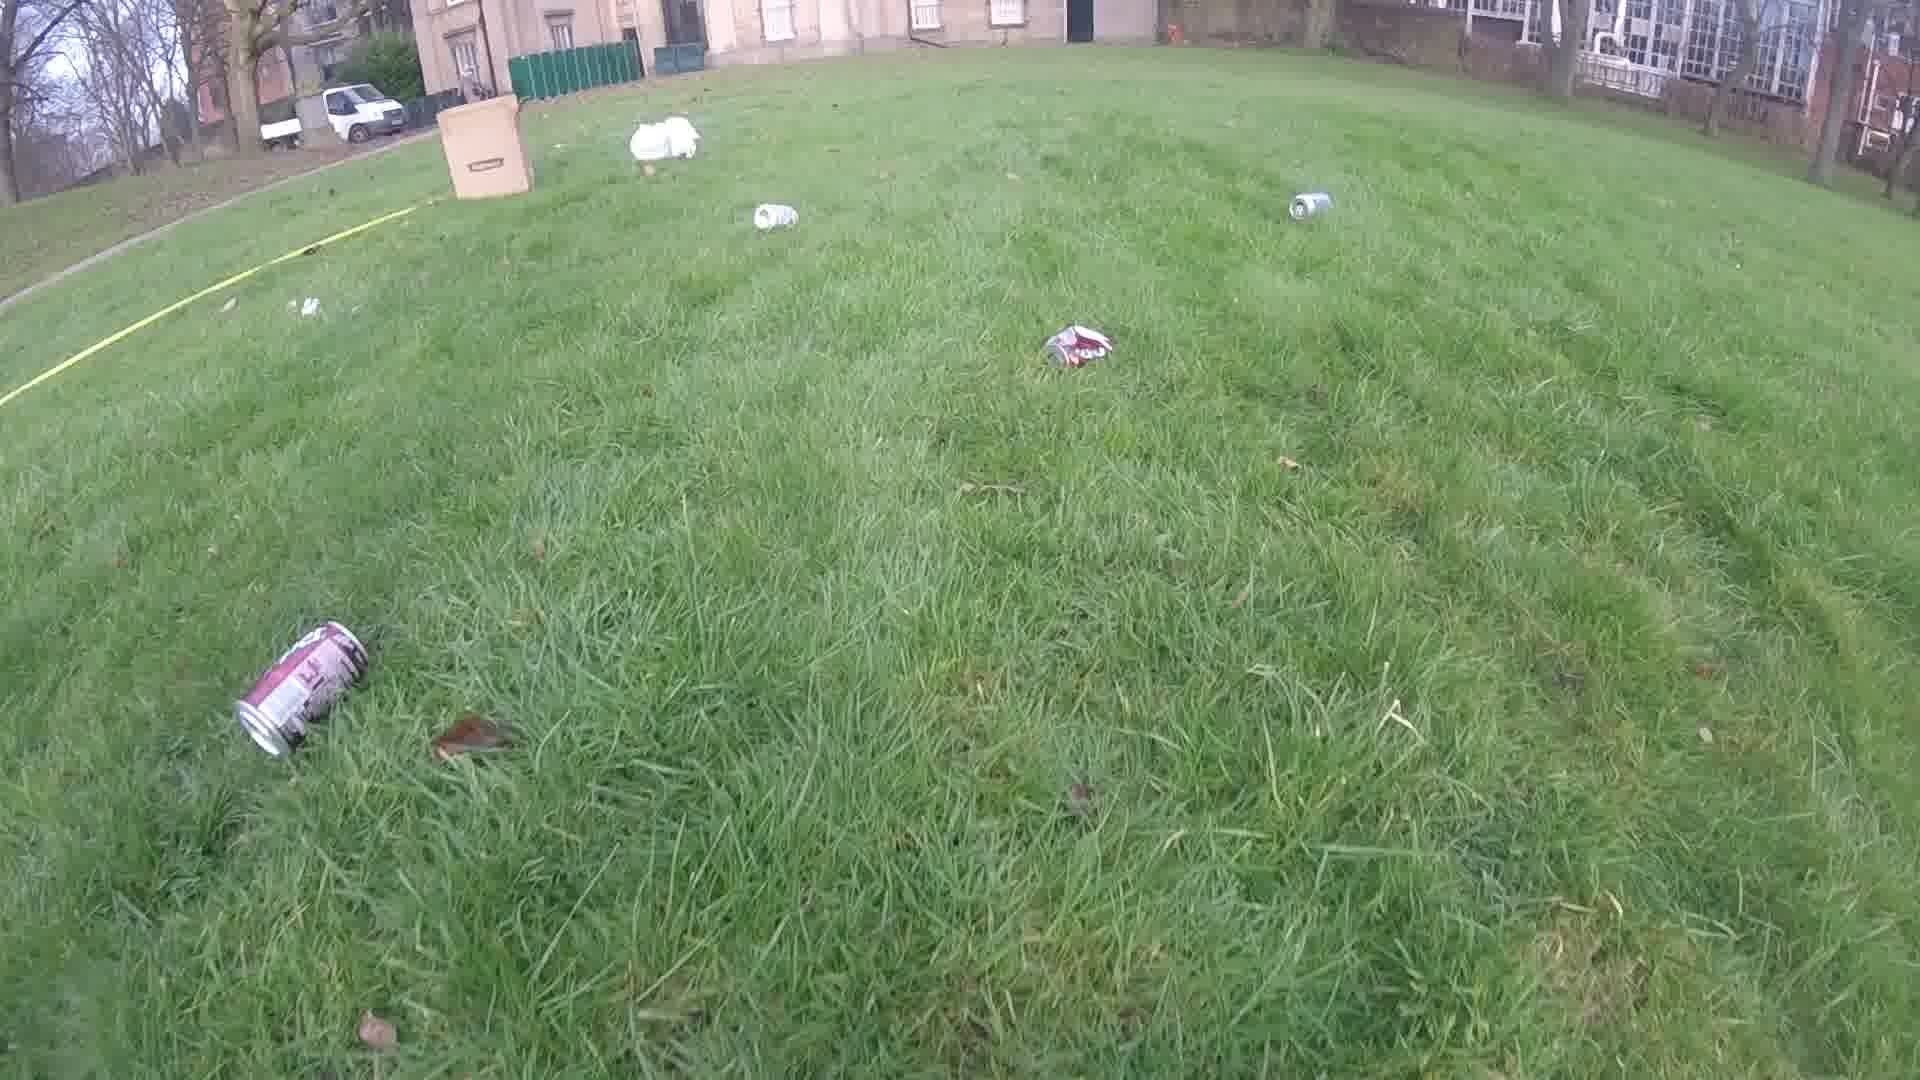litter: (235, 620, 369, 757), (433, 95, 533, 196), (626, 113, 698, 164), (1038, 323, 1112, 369), (748, 200, 800, 228), (1288, 194, 1331, 218), (302, 298, 319, 316)
